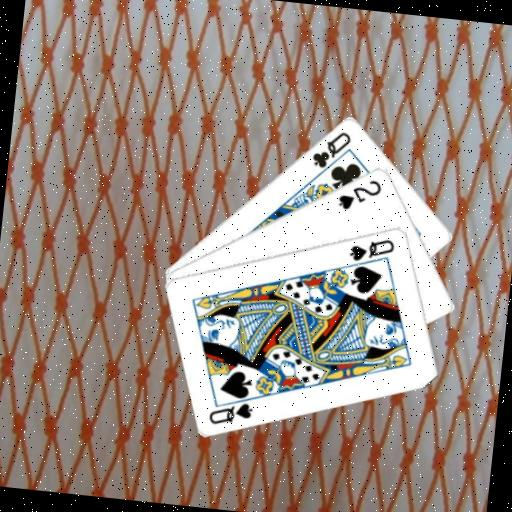2S: (335, 173, 385, 215)
QC: (309, 125, 354, 173)
QS: (346, 232, 398, 266), (206, 395, 256, 429)
